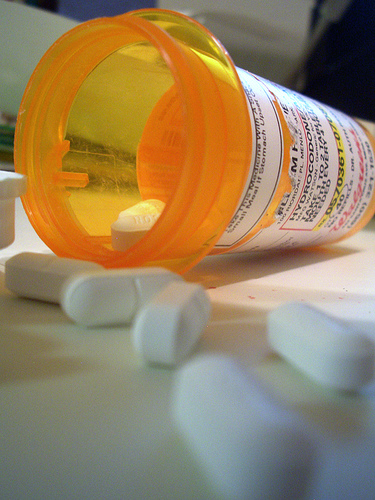pill bottle: (14, 9, 371, 267)
